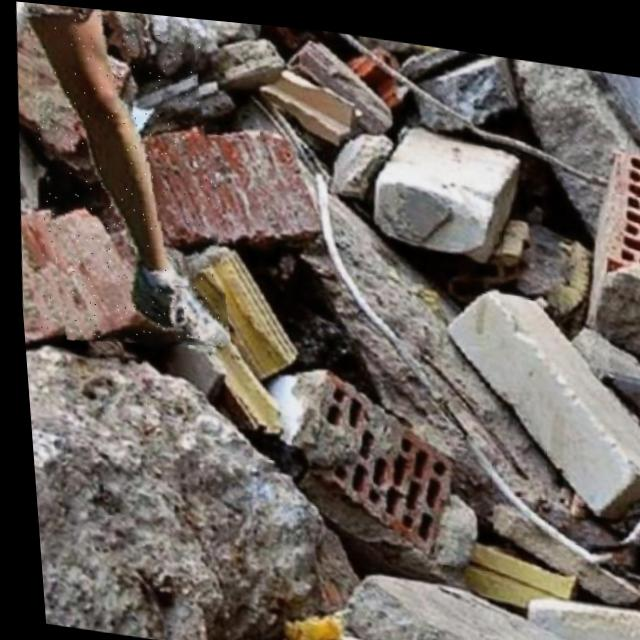Person in Rubble: (16, 1, 236, 355)
